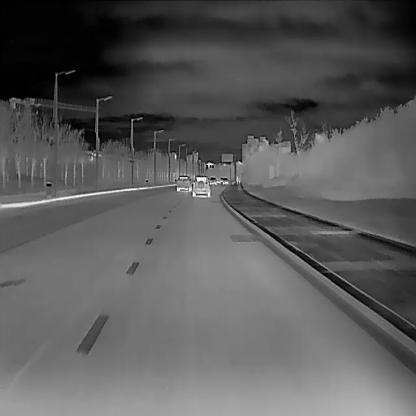car: (191, 174, 210, 196), (176, 174, 192, 192), (209, 176, 216, 186), (222, 177, 228, 185), (219, 177, 223, 181), (216, 179, 220, 183)
